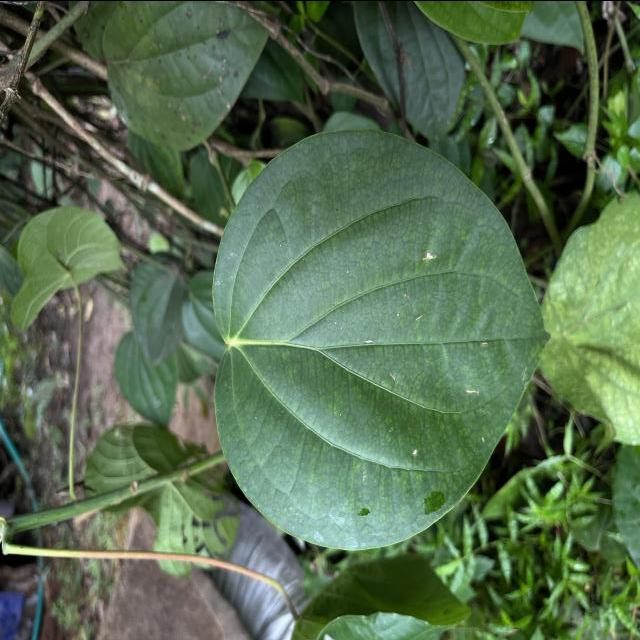Piper nigrum: (210, 125, 553, 552)
